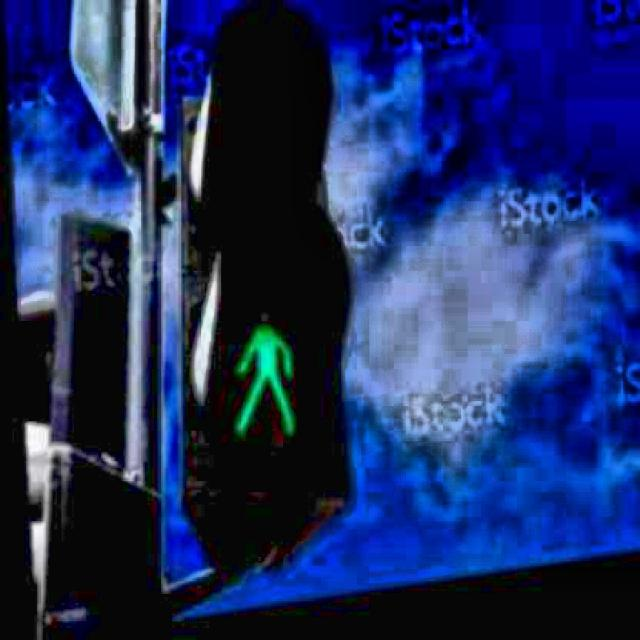semaforo pedestre: (48, 0, 463, 614)
